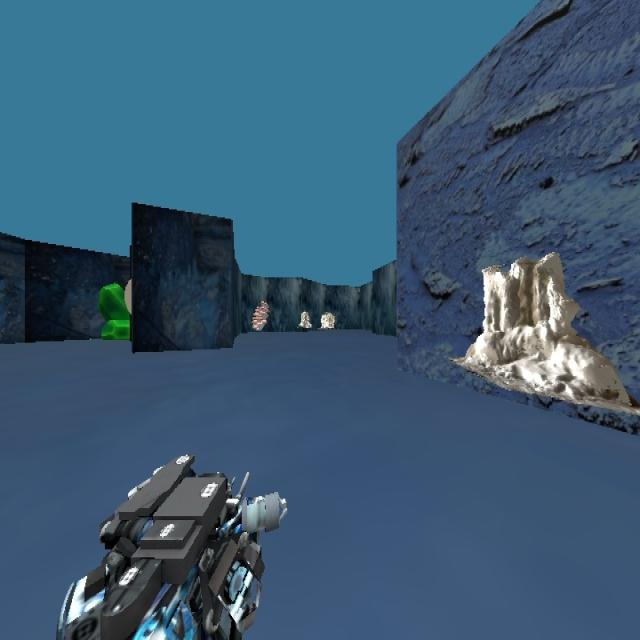Diamon: (97, 280, 131, 340)
Ice: (453, 226, 629, 453), (294, 296, 312, 342), (322, 304, 342, 335)
Mushroom: (247, 289, 273, 335)
